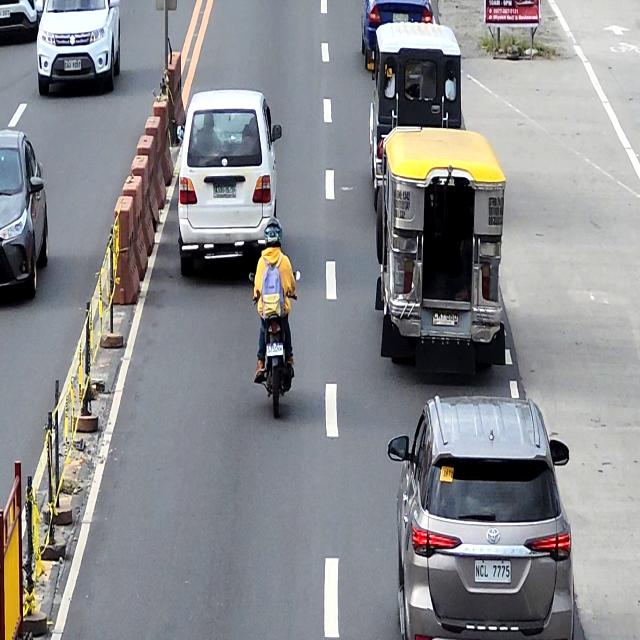Car: (388, 391, 574, 640), (176, 90, 282, 275), (0, 130, 51, 308), (36, 0, 122, 97), (363, 0, 434, 70), (0, 0, 43, 36)
Jeep: (375, 124, 506, 385), (369, 19, 463, 181)
License-Plate: (474, 560, 510, 585), (432, 308, 459, 325), (212, 180, 237, 197), (266, 344, 284, 356), (64, 60, 82, 71), (392, 14, 409, 24), (0, 9, 11, 19)
Motorcycle: (247, 268, 303, 421)
